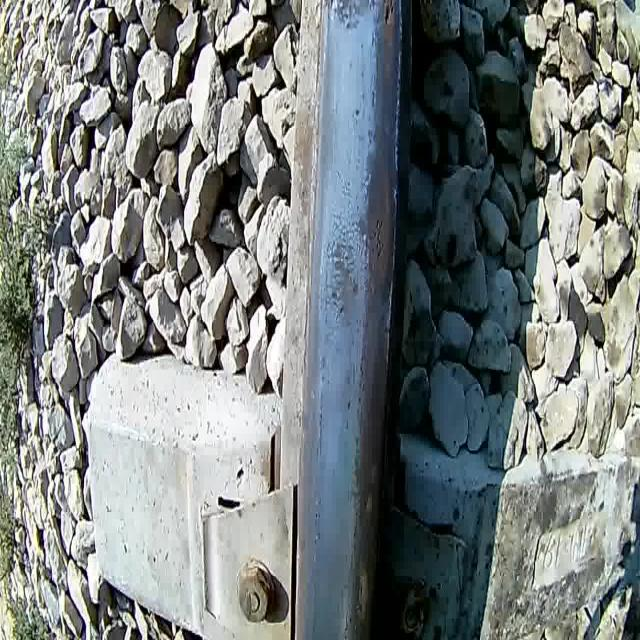Spallings: (376, 0, 399, 32)
Squats: (320, 204, 366, 342), (360, 158, 396, 298), (377, 0, 403, 122), (350, 541, 372, 637), (324, 0, 379, 37), (359, 449, 381, 532)
